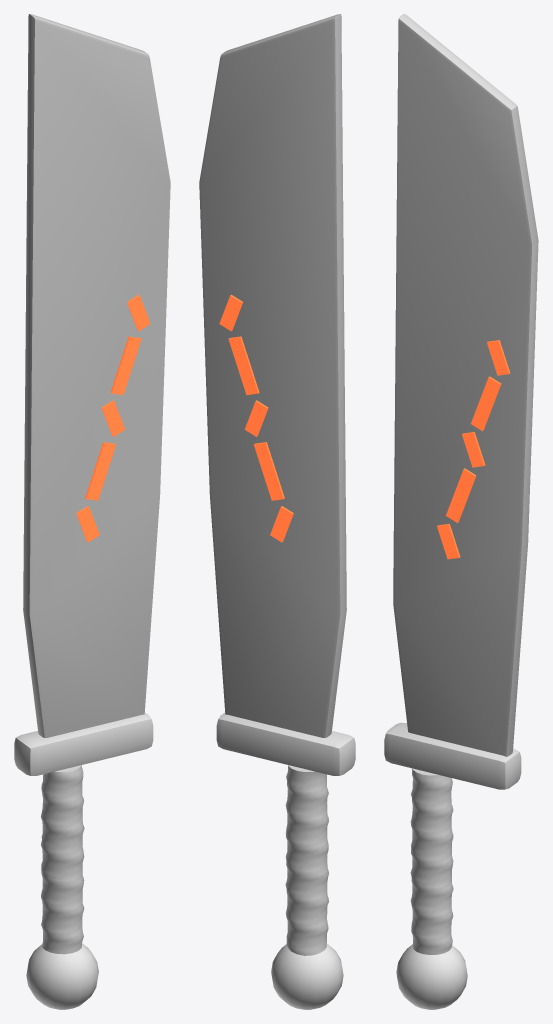
File: gravefeast_cleaver.glb
3 renders of one model, left to right at view 1: azimuth 30°, elevation 25°; view 2: azimuth 150°, elevation 25°; view 3: azimuth 330°, elevation 25°, orthographic.
Visible parts, largest first — view 1: gravefeast_cleaver; view 2: gravefeast_cleaver; view 3: gravefeast_cleaver.
Part boxes in pixels (x1,y1,x2,y2): gravefeast_cleaver: (14,14,170,1009); gravefeast_cleaver: (199,14,355,1009); gravefeast_cleaver: (384,14,538,1009).
Size of the model in its own units: 0.14 by 0.9042 by 0.06.
